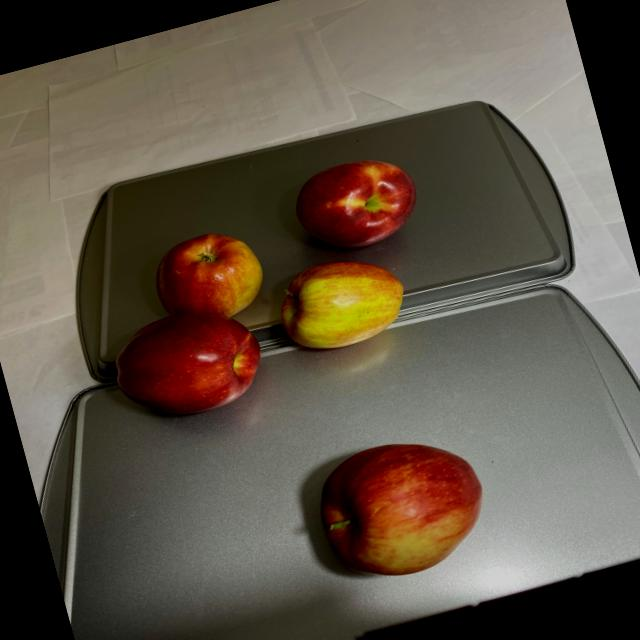apple: (74, 146, 459, 432), (306, 421, 504, 594)
